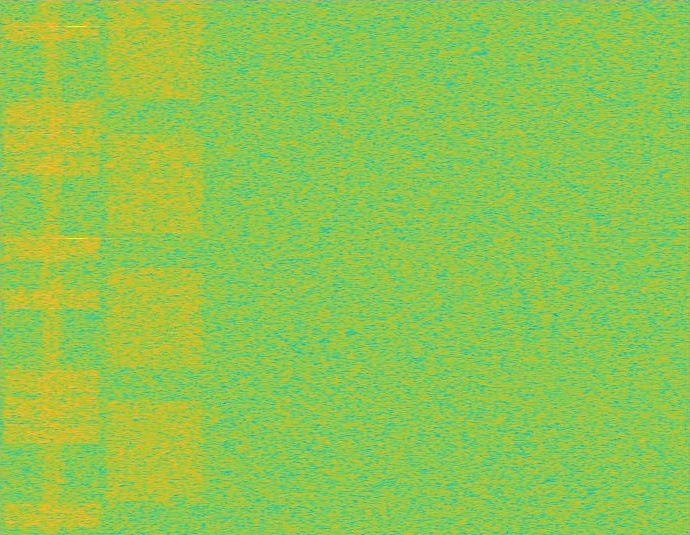5G: (104, 0, 207, 534)
DSSS: (40, 0, 63, 534)
LTE: (0, 0, 104, 534)
Radar: (70, 0, 83, 534)
